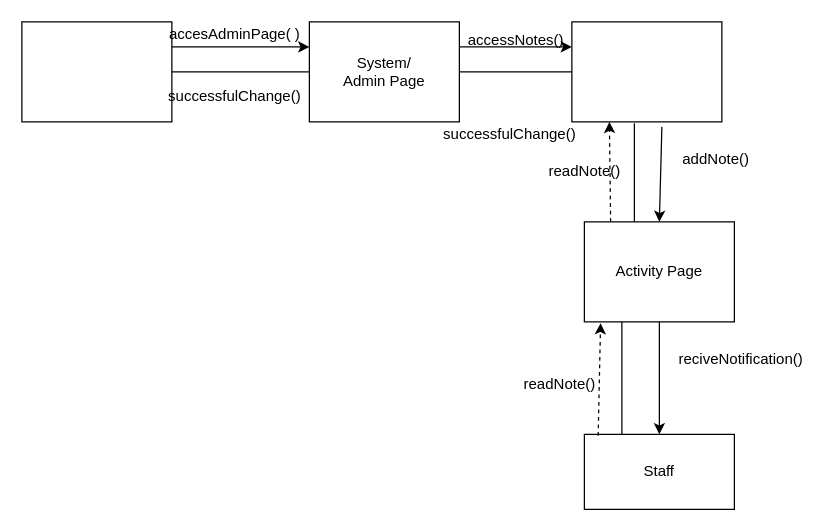
This 831x531 diagram has some shape labels left out. Here are the shapes that lost their labels. From the top down, the centre of each, then its label:
At [96,71]: "Admin".
At [646,71]: "Notes".
